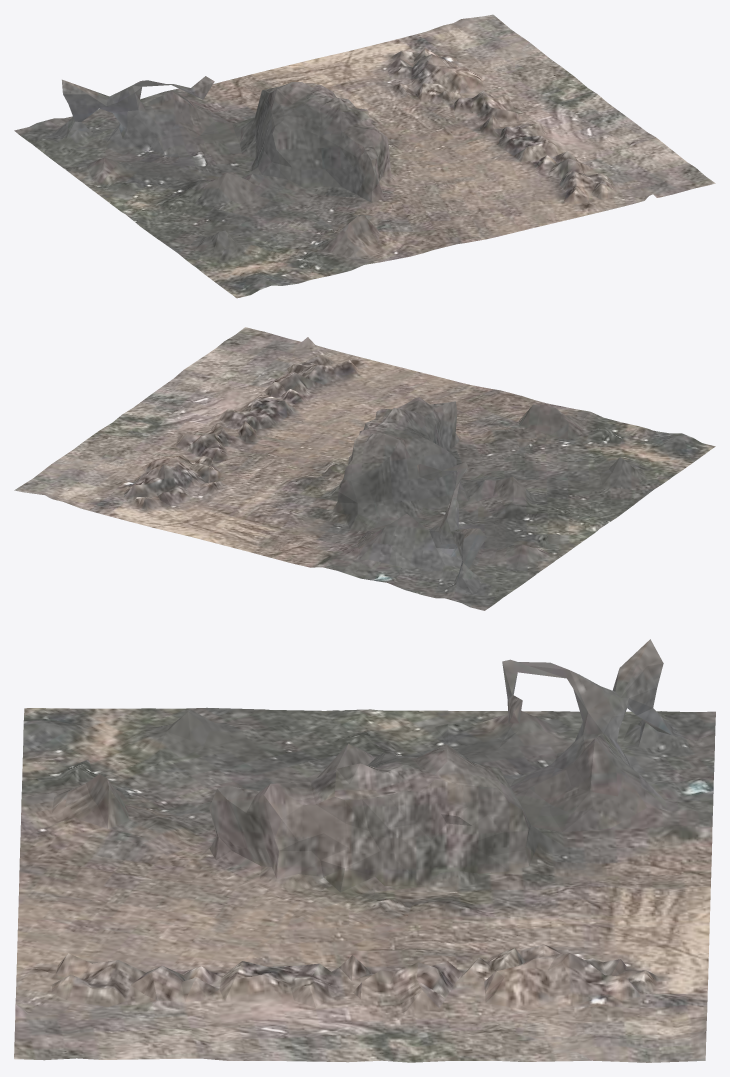
The model's file is Tile_+009_+008_L20_0uuuu33.glb.
3 views of the same model, one above another, from view 1: azimuth 30°, elevation 25°; view 2: azimuth 150°, elevation 25°; view 3: azimuth 270°, elevation 25° (orthographic). The views are drawn at different scales.
Visible parts, largest first — view 1: rtc; view 2: rtc; view 3: rtc.
Part boxes in pixels (x1,y1,x2,y2): rtc: (14, 14, 715, 298); rtc: (14, 327, 715, 610); rtc: (14, 639, 715, 1062).
Size of the model in its own units: 26.13 by 4.06 by 21.74.
2 materials, 2 textured.
